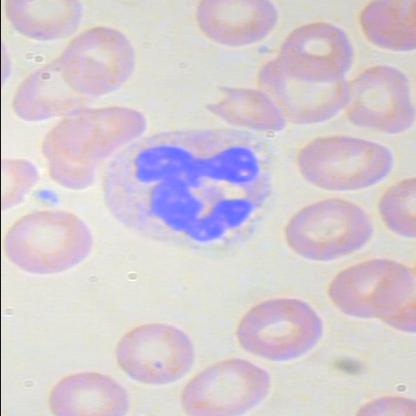Platelets: (30, 186, 63, 204)
RBC: (280, 193, 378, 271), (6, 201, 98, 277), (294, 131, 396, 195), (235, 296, 325, 366), (110, 318, 200, 388), (335, 60, 415, 138), (59, 22, 141, 98), (324, 256, 416, 320), (182, 354, 274, 416), (191, 0, 284, 49), (43, 370, 135, 416), (352, 0, 416, 58), (1, 0, 86, 42)
WBC: (96, 121, 277, 258)
